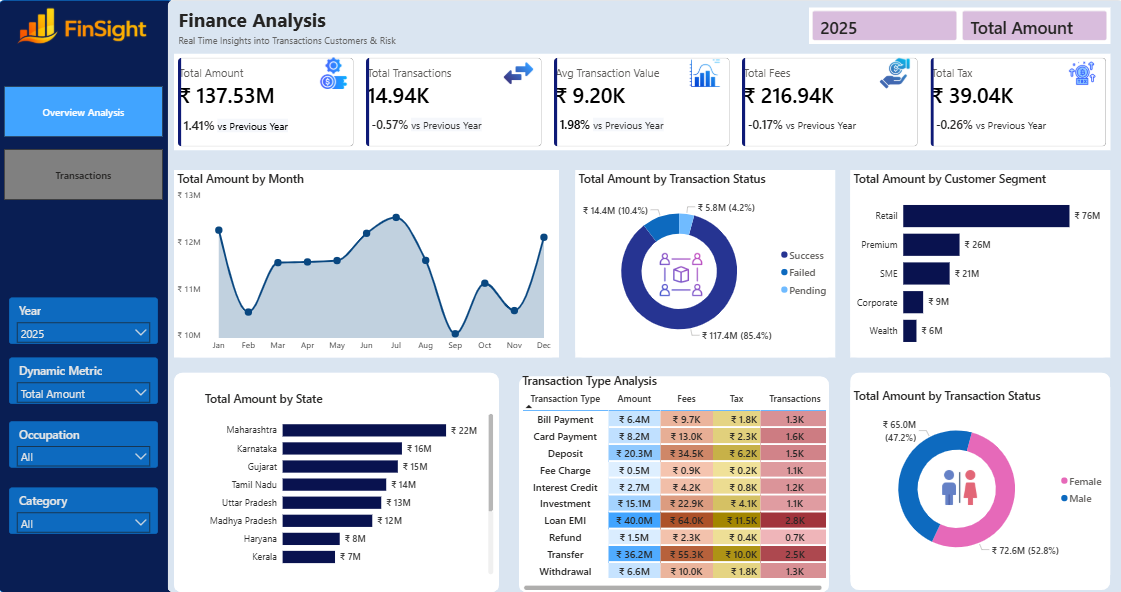

This screenshot's page, from the dashboard's own definition file:
{"tool":"powerbi","page":{"name":"Overview Analysis","canvas":[1800,950],"ordinal":0},"visuals":[{"type":"shape","box":[0,0,280,950],"z":0},{"type":"shape","box":[270,0,1530,950],"z":1000},{"type":"image","box":[0,0,270,84],"z":2000},{"type":"cardVisual","fields":{"Data":["finance_transactions.Dashboard Title"]},"box":[270,0,386,84],"z":3000},{"type":"cardVisual","fields":{"Data":["finance_transactions.Total Amount","finance_transactions.Total Transactions","finance_transactions.Avg Transaction Value","finance_transactions.Total Fees","finance_transactions.Total Tax"]},"box":[280,86,1498,154],"z":4000},{"type":"slicer","fields":{"Values":["Calendar Table.Year"]},"box":[16,476,238,74],"z":5000},{"type":"image","box":[510,92,50,50],"z":6000},{"type":"image","box":[806,92,50,50],"z":7000},{"type":"image","box":[1408,92,50,50],"z":8000},{"type":"image","box":[1104,92,50,50],"z":9000},{"type":"image","box":[1708,92,50,50],"z":10000},{"type":"slicer","fields":{"Values":["Dynamic Metric.Dynamic Metric"]},"box":[16,572,238,74],"z":11000},{"type":"shape","box":[280,272,615,300],"z":12000},{"type":"areaChart","fields":{"Y":["finance_transactions.Total Amount"],"Category":["Calendar Table.Month"]},"box":[280,272,616,300],"z":13000},{"type":"cardVisual","fields":{"Data":["Calendar Table.Selected Year","Calendar Table.Selected Dynamic Measure"]},"box":[1296,12,482,58],"z":14000},{"type":"shape","box":[922,272,415,300],"z":15000},{"type":"donutChart","title":"Total Amount by Transaction Status","fields":{"Y":["finance_transactions.Total Amount"],"Category":["finance_transactions.transaction_status"]},"box":[922,272,416,300],"z":16000},{"type":"shape","box":[1362,272,416,300],"z":17000},{"type":"barChart","title":"Total Amount by Customer Segment","fields":{"Y":["finance_transactions.Total Amount"],"Category":["customers (5).customer_segment"]},"box":[1362,272,416,300],"z":18000},{"type":"shape","box":[280,596,520,354],"z":19000},{"type":"barChart","title":"Total Amount by State","fields":{"Y":["finance_transactions.Total Amount"],"Category":["customers (5).state"]},"box":[324,624,472,300],"z":20000},{"type":"shape","box":[832,602,496,348],"z":21000},{"type":"tableEx","title":"Transaction Type Analysis","fields":{"Values":["finance_transactions.transaction_type","finance_transactions.Total Amount","finance_transactions.Total Fees","finance_transactions.Total Tax","finance_transactions.Total Transactions"]},"box":[832,596,496,354],"z":22000},{"type":"shape","box":[1362,596,416,348],"z":23000},{"type":"donutChart","title":"Total Amount by Transaction Status","fields":{"Y":["finance_transactions.Total Amount"],"Category":["customers (5).gender"]},"box":[1362,620,416,300],"z":24000},{"type":"image","box":[1052,402,78,74],"z":25000},{"type":"image","box":[1502,748,70,64],"z":26000},{"type":"slicer","fields":{"Values":["customers (5).occupation"]},"box":[16,674,238,74],"z":27000},{"type":"slicer","fields":{"Values":["finance_transactions.merchant_category"]},"box":[16,780,238,74],"z":28000},{"type":"pageNavigator","box":[8,138,254,182],"z":29000}]}

Visuals, with their boxes on the page's 1800x950 design canvas (x1, y1, x2, y2). These are canvas units, not pixel positions in the 1121x592 screenshot, which may show the page scaled, cropped or inside an application window:
shape: region(0, 0, 280, 950)
shape: region(270, 0, 1800, 950)
image: region(0, 0, 270, 84)
cardVisual - finance_transactions.Dashboard Title: region(270, 0, 656, 84)
cardVisual - finance_transactions.Total Amount x finance_transactions.Total Transactions: region(280, 86, 1778, 240)
slicer - Calendar Table.Year: region(16, 476, 254, 550)
image: region(510, 92, 560, 142)
image: region(806, 92, 856, 142)
image: region(1408, 92, 1458, 142)
image: region(1104, 92, 1154, 142)
image: region(1708, 92, 1758, 142)
slicer - Dynamic Metric.Dynamic Metric: region(16, 572, 254, 646)
shape: region(280, 272, 895, 572)
areaChart - finance_transactions.Total Amount x Calendar Table.Month: region(280, 272, 896, 572)
cardVisual - Calendar Table.Selected Year x Calendar Table.Selected Dynamic Measure: region(1296, 12, 1778, 70)
shape: region(922, 272, 1337, 572)
"Total Amount by Transaction Status" donutChart: region(922, 272, 1338, 572)
shape: region(1362, 272, 1778, 572)
"Total Amount by Customer Segment" barChart: region(1362, 272, 1778, 572)
shape: region(280, 596, 800, 950)
"Total Amount by State" barChart: region(324, 624, 796, 924)
shape: region(832, 602, 1328, 950)
"Transaction Type Analysis" tableEx: region(832, 596, 1328, 950)
shape: region(1362, 596, 1778, 944)
"Total Amount by Transaction Status" donutChart: region(1362, 620, 1778, 920)
image: region(1052, 402, 1130, 476)
image: region(1502, 748, 1572, 812)
slicer - customers (5).occupation: region(16, 674, 254, 748)
slicer - finance_transactions.merchant_category: region(16, 780, 254, 854)
pageNavigator: region(8, 138, 262, 320)
